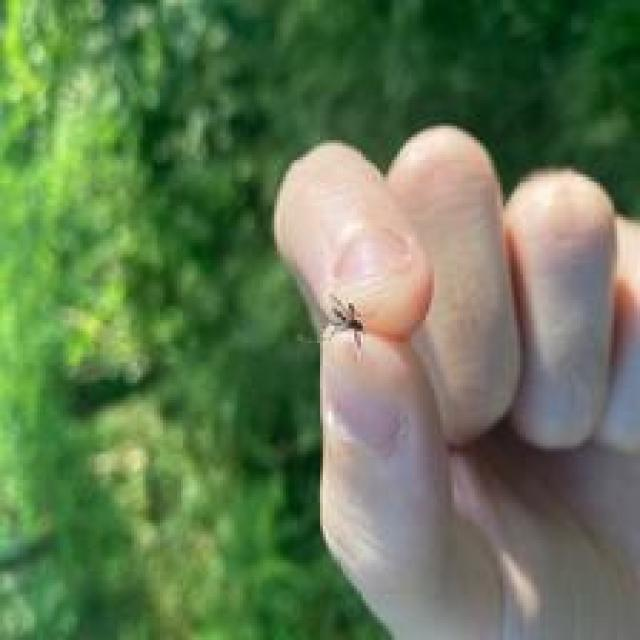Aedes albopictus: (319, 293, 367, 350)
